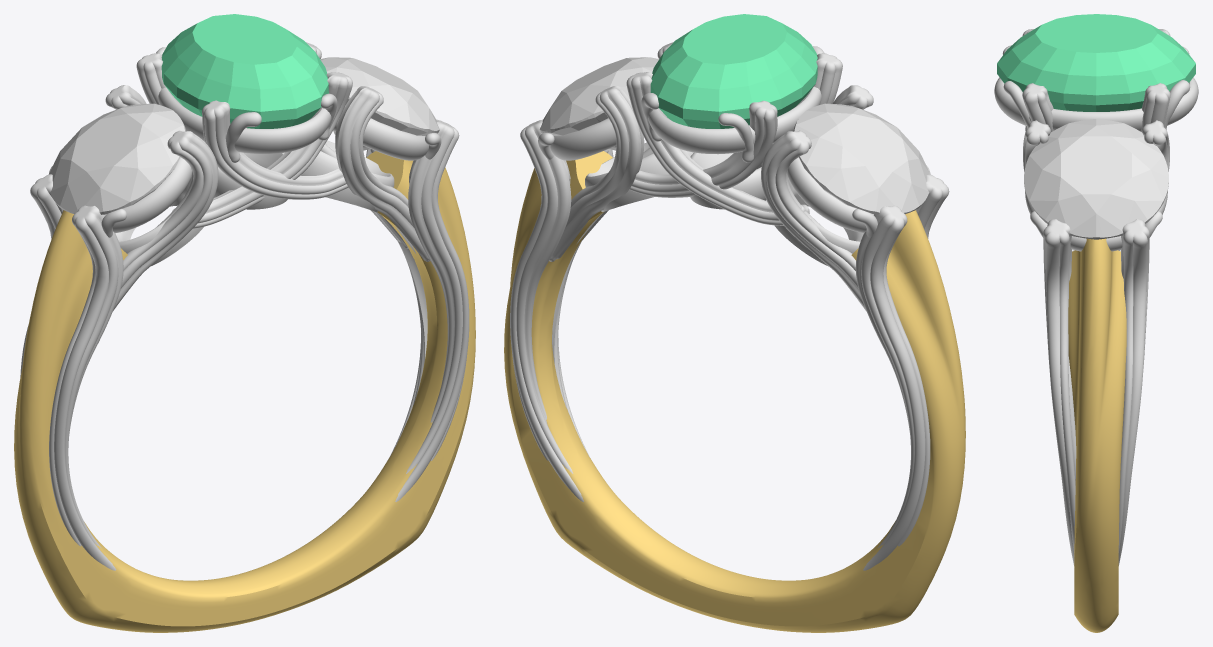
The model's file is BlaineV7OceanprongsNew_blender.glb.
3 views of the same model, side by side, from view 1: azimuth 30°, elevation 25°; view 2: azimuth 150°, elevation 25°; view 3: azimuth 270°, elevation 25° (orthographic). The views are drawn at different scales.
Visible parts, largest first — view 1: V7 Blaine PT for 3d model, V5 Blaine YG for 3d model, Blaine garnet for 3d model, Blaine dia for 3d model.001, Blaine dia for 3d model; view 2: V7 Blaine PT for 3d model, V5 Blaine YG for 3d model, Blaine garnet for 3d model, Blaine dia for 3d model.001, Blaine dia for 3d model; view 3: V7 Blaine PT for 3d model, V5 Blaine YG for 3d model, Blaine garnet for 3d model, Blaine dia for 3d model.
Boxes of the visible parts, x1,y1,x2,y2 form: V7 Blaine PT for 3d model: (20,42,469,570); V5 Blaine YG for 3d model: (14,151,475,632); Blaine garnet for 3d model: (161,14,328,128); Blaine dia for 3d model.001: (50,103,185,214); Blaine dia for 3d model: (320,57,439,150); V7 Blaine PT for 3d model: (510,42,949,570); V5 Blaine YG for 3d model: (504,151,965,632); Blaine garnet for 3d model: (650,14,817,128); Blaine dia for 3d model.001: (793,103,929,214); Blaine dia for 3d model: (539,57,659,150); V7 Blaine PT for 3d model: (994,29,1198,565); V5 Blaine YG for 3d model: (1068,238,1126,632); Blaine garnet for 3d model: (997,14,1195,111); Blaine dia for 3d model: (1024,119,1168,239).
Size of the model in its own units: 20.5 by 25.08 by 8.3.
